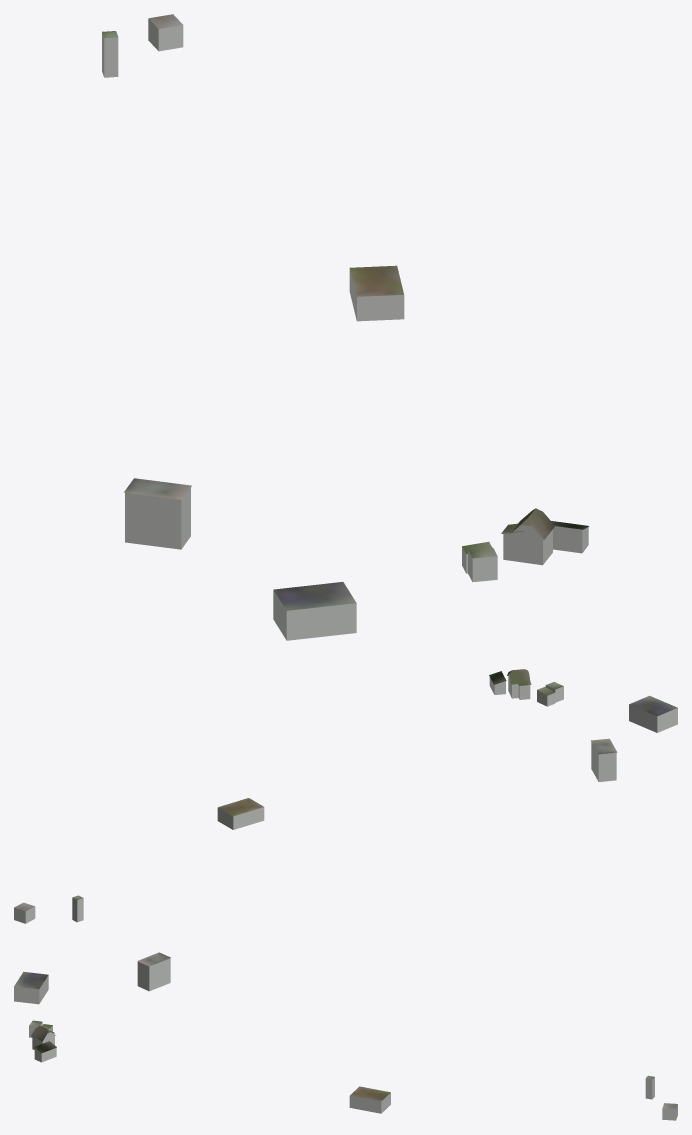
File: LSGG_3_2.glb
The picture shows the model from 3 angles, top to bottom: view 1: azimuth 30°, elevation 25°; view 2: azimuth 150°, elevation 25°; view 3: azimuth 270°, elevation 25°; orthographic projection. The views are drawn at different scales.
Visible parts, largest first — view 1: building_491ef68e0eec7251, building_00e3183d31dabe20, building_ca20c77610e07939, building_3f9d6c2ab2503ad0; view 2: building_491ef68e0eec7251, building_00e3183d31dabe20, building_3f9d6c2ab2503ad0, building_ca20c77610e07939; view 3: building_491ef68e0eec7251, building_00e3183d31dabe20, building_3f9d6c2ab2503ad0, building_ca20c77610e07939.
Boxes of the visible parts, x1,y1,x2,y2 form: building_491ef68e0eec7251: (125, 488, 588, 640); building_00e3183d31dabe20: (124, 478, 589, 610); building_ca20c77610e07939: (350, 265, 403, 296); building_3f9d6c2ab2503ad0: (349, 268, 404, 321); building_491ef68e0eec7251: (489, 674, 677, 781); building_00e3183d31dabe20: (489, 669, 677, 754); building_3f9d6c2ab2503ad0: (217, 807, 264, 829); building_ca20c77610e07939: (218, 798, 263, 816); building_491ef68e0eec7251: (14, 958, 170, 1062); building_00e3183d31dabe20: (14, 952, 170, 1053); building_3f9d6c2ab2503ad0: (349, 1093, 390, 1113); building_ca20c77610e07939: (350, 1086, 390, 1101).
Size of the model in its own units: 162 by 22.2 by 329.
2 materials, 1 textured.
